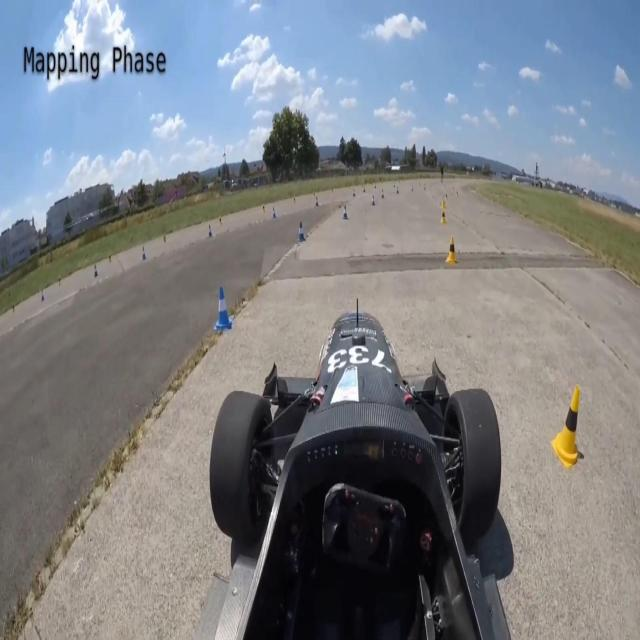blue_cone: (214, 284, 235, 332), (297, 220, 307, 243), (341, 204, 349, 222), (140, 247, 147, 262), (39, 289, 45, 303), (370, 194, 376, 207), (314, 195, 320, 208), (207, 226, 213, 239), (272, 205, 277, 219), (380, 189, 386, 199), (94, 264, 98, 279), (352, 188, 356, 198)
yellow_cone: (552, 387, 587, 471), (444, 235, 458, 265), (439, 210, 448, 225), (11, 301, 16, 315), (218, 215, 223, 228), (441, 199, 447, 209), (57, 276, 62, 288), (262, 203, 266, 216), (163, 232, 167, 244), (108, 252, 112, 264), (293, 195, 296, 205)
